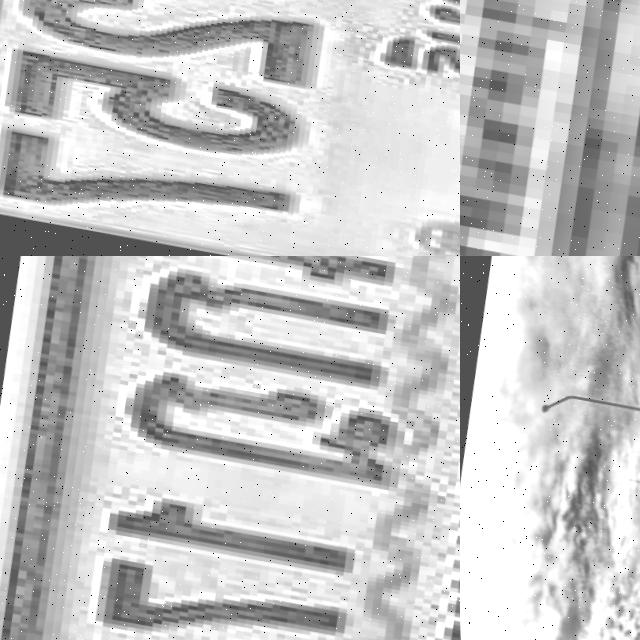license-plate: (0, 256, 460, 640), (0, 0, 460, 256), (460, 0, 640, 256)
